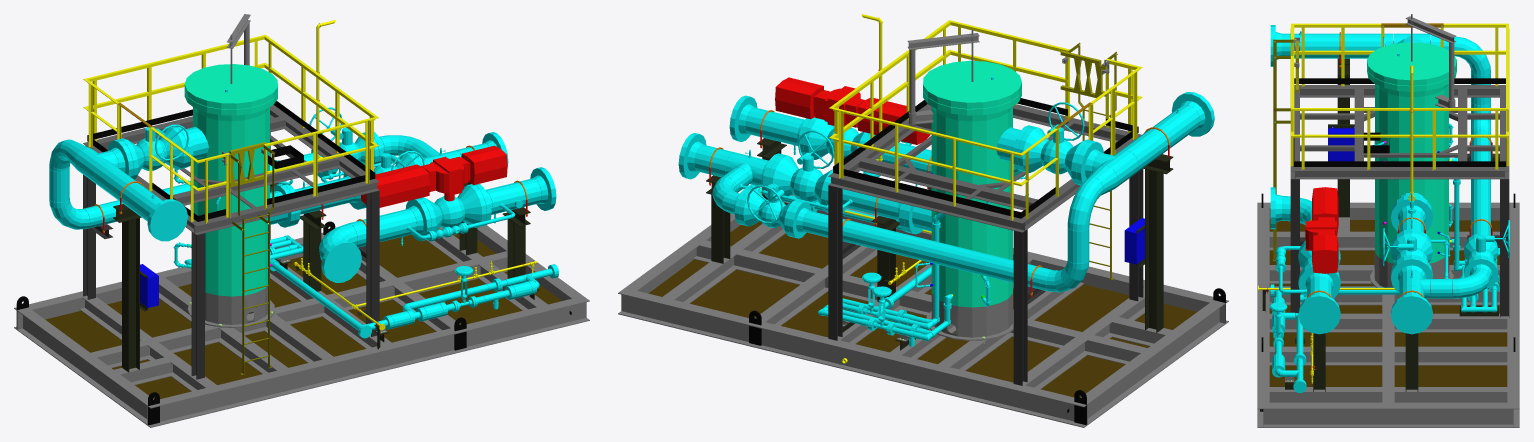
Rendered from isps1-305.fbx.
The picture shows the model from 3 angles, left to right: view 1: azimuth 30°, elevation 25°; view 2: azimuth 150°, elevation 25°; view 3: azimuth 270°, elevation 25°; orthographic projection. The views are drawn at different scales.
Visible parts, largest first — view 1: D016F936-22EA-45CA-8070-DA1CD6C70D7F, DFE2FE6F-85B2-4B6E-9730-B6CFB2734B5D, E2A1EEDC-E88D-4760-961C-A853B4B3588F, E4211EBC-ED18-4471-8304-BFEC0B4F4BCE, 12B40499-A201-4B7D-9C6F-50D77AA99039, A65975F0-41E4-413E-886C-D006766AC7BB, 33200EA2-1114-463C-8DF7-FD45186B585E, C01F3CC1-370A-447A-8402-7559A2CD4CD1, 5425BF58-3D2B-468F-96C7-519062F222CF, B171F514-6266-4F40-9F80-C488A40D682A, 6B2C995C-F0F3-4EE5-99B8-763EF9E8D3F0, FE0FDAF7-06A6-4E98-BE03-B104FC358855 (+49 smaller); view 2: D016F936-22EA-45CA-8070-DA1CD6C70D7F, 5425BF58-3D2B-468F-96C7-519062F222CF, E2A1EEDC-E88D-4760-961C-A853B4B3588F, AC12531F-39D1-4126-A571-A4C82872610E, 12B40499-A201-4B7D-9C6F-50D77AA99039, A65975F0-41E4-413E-886C-D006766AC7BB, E4211EBC-ED18-4471-8304-BFEC0B4F4BCE, 33200EA2-1114-463C-8DF7-FD45186B585E, DFE2FE6F-85B2-4B6E-9730-B6CFB2734B5D, 4DC6E86B-3A85-4C67-9FC7-DC3275AB64D6, B171F514-6266-4F40-9F80-C488A40D682A, FE0FDAF7-06A6-4E98-BE03-B104FC358855 (+56 smaller); view 3: D016F936-22EA-45CA-8070-DA1CD6C70D7F, E2A1EEDC-E88D-4760-961C-A853B4B3588F, 6F0A24AB-00E4-427A-9F21-8AD0D63ACFAC, C1B2B954-7C27-4AD3-B31B-828AF4EC65EB, F525B5EB-9B03-4AAA-B89A-48775891D2E3, A65975F0-41E4-413E-886C-D006766AC7BB, DFE2FE6F-85B2-4B6E-9730-B6CFB2734B5D, 8C17ECC0-AB64-435B-8A4D-7710BC5CB97F, DCF4897C-2DF2-46FC-9A94-8AE52B307D7A, 5425BF58-3D2B-468F-96C7-519062F222CF, E4211EBC-ED18-4471-8304-BFEC0B4F4BCE, 4E27772C-28C8-4B13-8A48-3A640672F990 (+62 smaller).
Boxes of the visible parts, x1,y1,x2,y2 form: D016F936-22EA-45CA-8070-DA1CD6C70D7F: (45, 232, 561, 398); DFE2FE6F-85B2-4B6E-9730-B6CFB2734B5D: (144, 296, 589, 427); E2A1EEDC-E88D-4760-961C-A853B4B3588F: (193, 108, 269, 293); E4211EBC-ED18-4471-8304-BFEC0B4F4BCE: (361, 145, 507, 207); 12B40499-A201-4B7D-9C6F-50D77AA99039: (20, 310, 153, 422); A65975F0-41E4-413E-886C-D006766AC7BB: (184, 64, 277, 109); 33200EA2-1114-463C-8DF7-FD45186B585E: (122, 218, 139, 372); C01F3CC1-370A-447A-8402-7559A2CD4CD1: (192, 178, 379, 235); 5425BF58-3D2B-468F-96C7-519062F222CF: (14, 232, 325, 332); B171F514-6266-4F40-9F80-C488A40D682A: (79, 296, 216, 391); 6B2C995C-F0F3-4EE5-99B8-763EF9E8D3F0: (159, 277, 287, 373); FE0FDAF7-06A6-4E98-BE03-B104FC358855: (187, 286, 274, 327); D016F936-22EA-45CA-8070-DA1CD6C70D7F: (648, 221, 1196, 397); 5425BF58-3D2B-468F-96C7-519062F222CF: (618, 288, 1090, 427); E2A1EEDC-E88D-4760-961C-A853B4B3588F: (931, 107, 1012, 304); AC12531F-39D1-4126-A571-A4C82872610E: (802, 211, 1052, 291); 12B40499-A201-4B7D-9C6F-50D77AA99039: (1080, 303, 1221, 422); A65975F0-41E4-413E-886C-D006766AC7BB: (923, 60, 1021, 108); E4211EBC-ED18-4471-8304-BFEC0B4F4BCE: (775, 77, 930, 144); 33200EA2-1114-463C-8DF7-FD45186B585E: (1145, 169, 1163, 332); DFE2FE6F-85B2-4B6E-9730-B6CFB2734B5D: (761, 187, 1228, 326); 4DC6E86B-3A85-4C67-9FC7-DC3275AB64D6: (828, 173, 1027, 232); B171F514-6266-4F40-9F80-C488A40D682A: (1022, 286, 1144, 389); FE0FDAF7-06A6-4E98-BE03-B104FC358855: (926, 293, 1013, 340); D016F936-22EA-45CA-8070-DA1CD6C70D7F: (1269, 219, 1507, 386); E2A1EEDC-E88D-4760-961C-A853B4B3588F: (1375, 84, 1448, 260); 6F0A24AB-00E4-427A-9F21-8AD0D63ACFAC: (1263, 403, 1513, 427); C1B2B954-7C27-4AD3-B31B-828AF4EC65EB: (1269, 387, 1507, 403); F525B5EB-9B03-4AAA-B89A-48775891D2E3: (1269, 346, 1507, 365); A65975F0-41E4-413E-886C-D006766AC7BB: (1367, 42, 1456, 85); DFE2FE6F-85B2-4B6E-9730-B6CFB2734B5D: (1257, 202, 1269, 427); 8C17ECC0-AB64-435B-8A4D-7710BC5CB97F: (1269, 313, 1507, 332); DCF4897C-2DF2-46FC-9A94-8AE52B307D7A: (1295, 167, 1504, 179); 5425BF58-3D2B-468F-96C7-519062F222CF: (1507, 202, 1519, 427); E4211EBC-ED18-4471-8304-BFEC0B4F4BCE: (1305, 187, 1338, 273); 4E27772C-28C8-4B13-8A48-3A640672F990: (1282, 33, 1392, 58).
Size of the model in its own units: 312 by 168 by 200.
